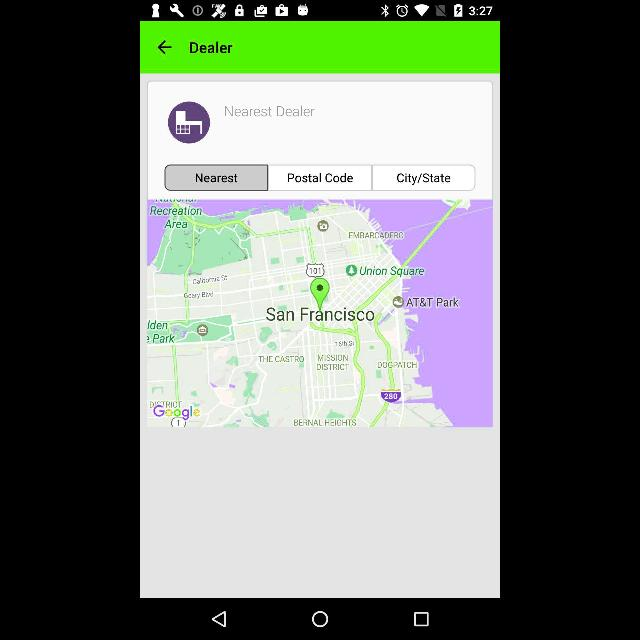icon: (168, 102, 210, 144), (312, 610, 328, 628), (212, 610, 226, 628), (158, 39, 172, 55), (414, 612, 428, 626)
map: (148, 200, 494, 428)
panel: (140, 598, 500, 640)
text: (226, 107, 314, 117), (191, 42, 233, 54)
textbutton: (165, 165, 267, 191), (269, 165, 371, 191), (373, 165, 475, 191)
toolbar: (140, 22, 500, 74)
uppertaskbar: (140, 0, 500, 20)
